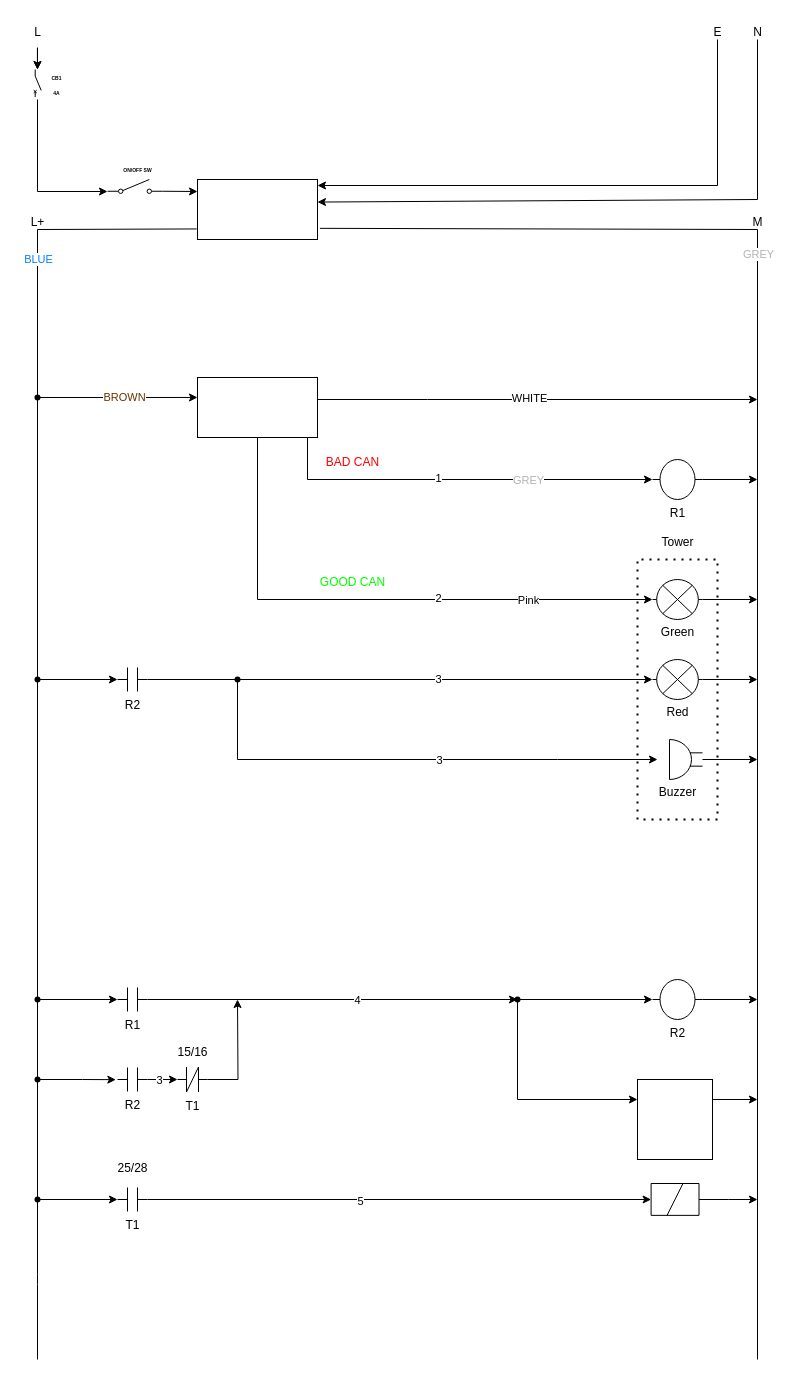
Image size: 791x1378. Some labels were removed from this diagram. Each missing label, with the box of its shape:
IS625: (196, 376, 318, 438)
Kicker: (650, 1182, 699, 1216)
Power Supply 240VAC - 24VDC: (196, 178, 318, 240)
T1 Timer Omron H3DK-S2: (636, 1078, 712, 1160)
